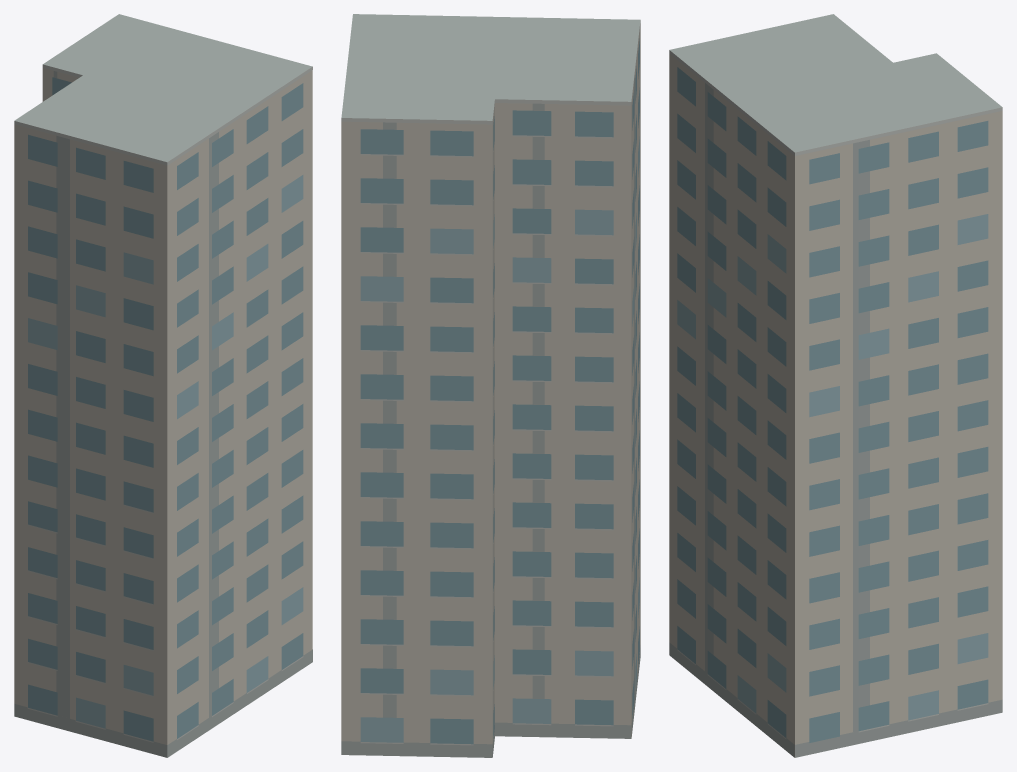
The model's file is residential-722ee4a2-70eb-44b9-8d60-0b7dbb84a2c6.glb.
The picture shows the model from 3 angles, left to right: view 1: azimuth 30°, elevation 25°; view 2: azimuth 150°, elevation 25°; view 3: azimuth 270°, elevation 25°; orthographic projection. The views are drawn at different scales.
Visible parts, largest first — view 1: residential-722ee4a2-70eb-44b9-8d60-0b7dbb84a2c6.tmp; view 2: residential-722ee4a2-70eb-44b9-8d60-0b7dbb84a2c6.tmp; view 3: residential-722ee4a2-70eb-44b9-8d60-0b7dbb84a2c6.tmp.
Part boxes in pixels (left/top/right/bottom): residential-722ee4a2-70eb-44b9-8d60-0b7dbb84a2c6.tmp: left=14, top=14, right=312, bottom=757; residential-722ee4a2-70eb-44b9-8d60-0b7dbb84a2c6.tmp: left=341, top=14, right=640, bottom=757; residential-722ee4a2-70eb-44b9-8d60-0b7dbb84a2c6.tmp: left=669, top=14, right=1002, bottom=757.
Size of the model in its own units: 20.63 by 42 by 20.97.
